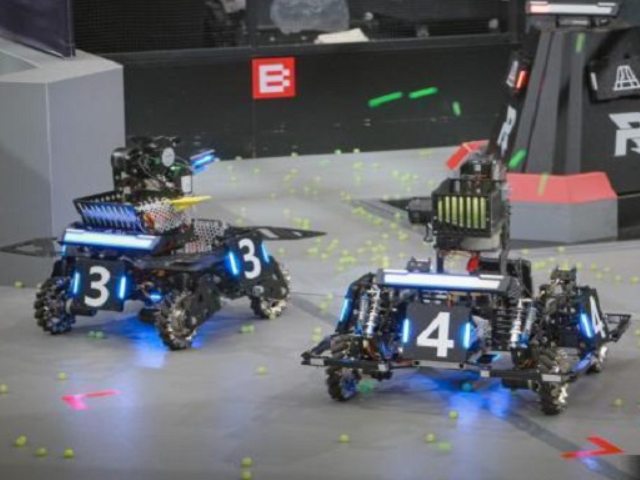rm: (313, 150, 633, 418), (31, 127, 287, 348)
